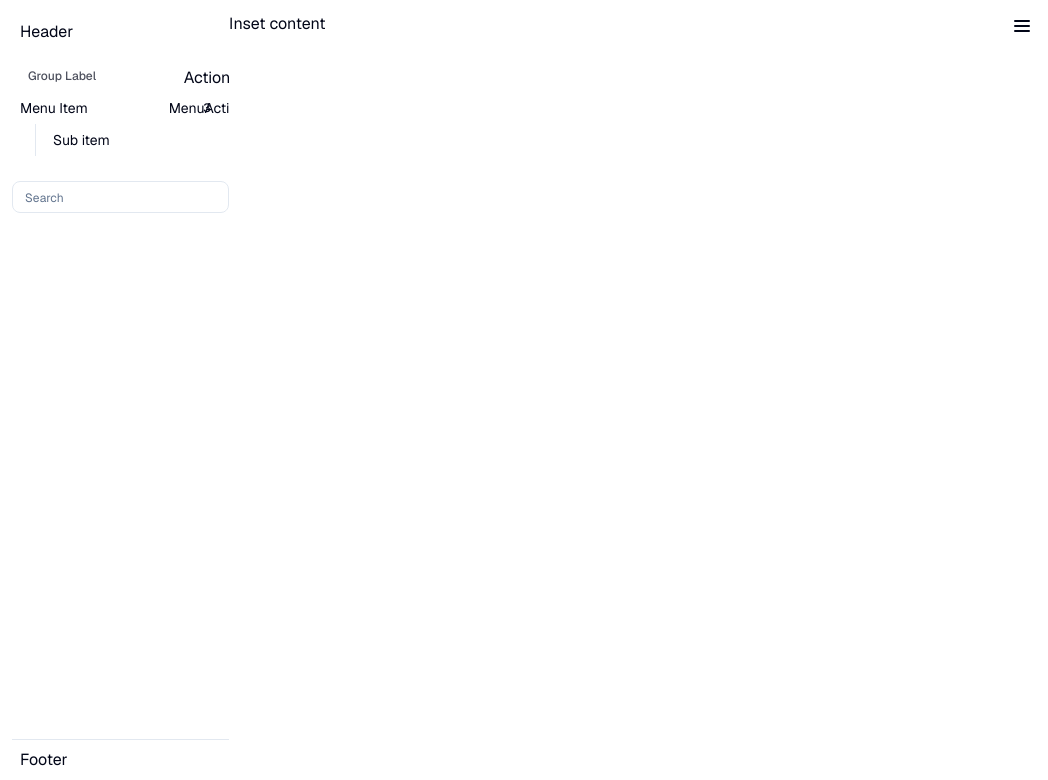
Test: SidebarProvider - mobile › SidebarTrigger reflete o estado aberto/fechado via aria-expanded
What coordinates should you click on to do the following:
click the 2nd button
I would click on:
 (1022, 26)
Its box is [1008,12,1036,40].
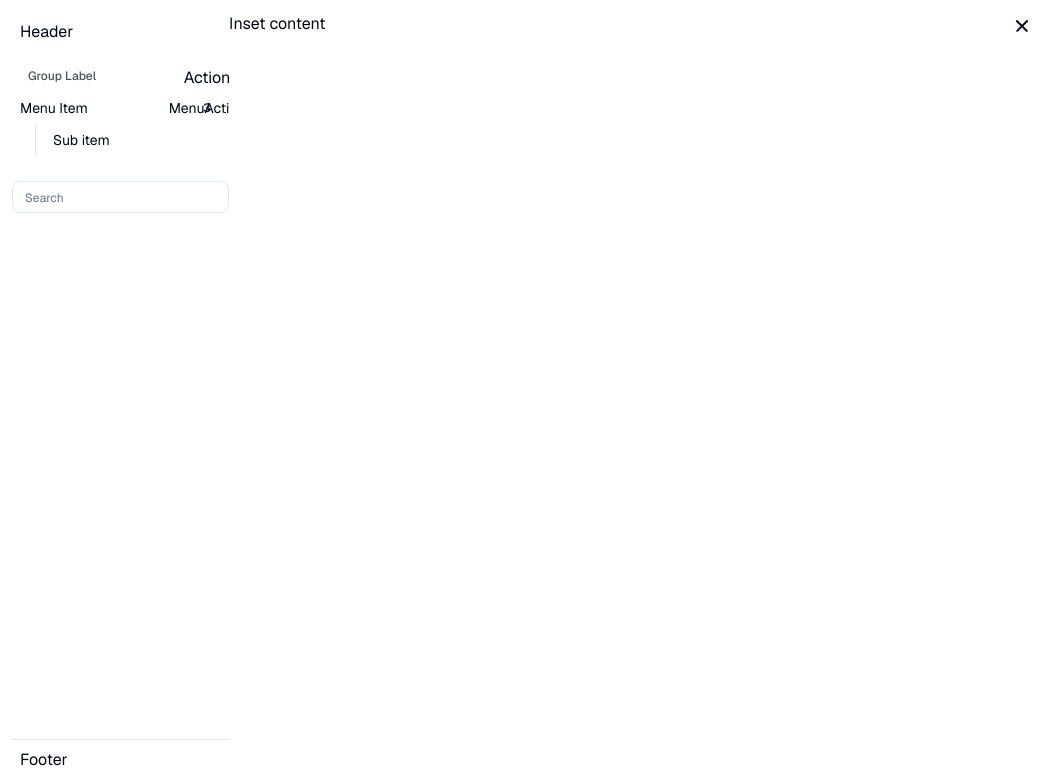
Expected: the 2nd button is expanded, [1008,12,1036,40]
